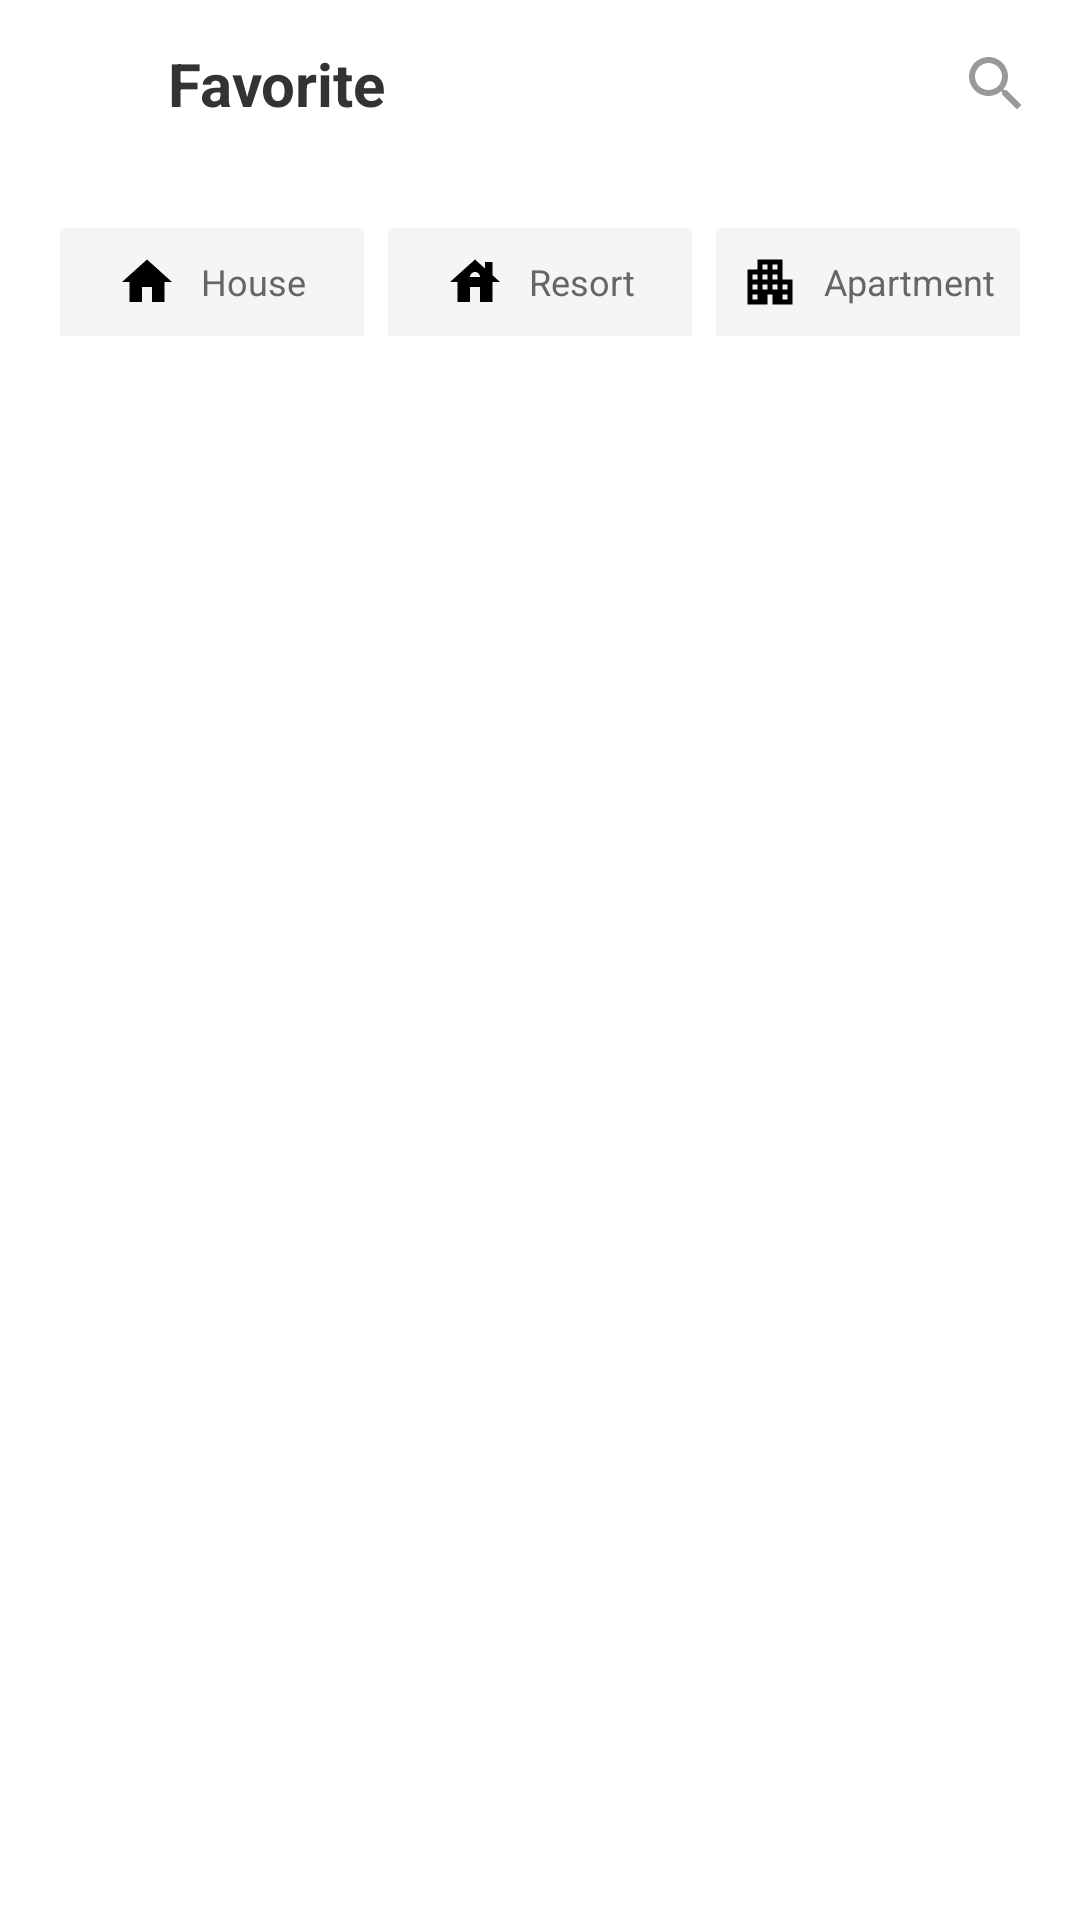

Named icons in this screenshot (1080w x 1920h) and their bounding boxes, (x1,y1,x2,y2):
apartement: (747,259,793,305)
search: (969,57,1021,109)
villa: (450,259,500,302)
